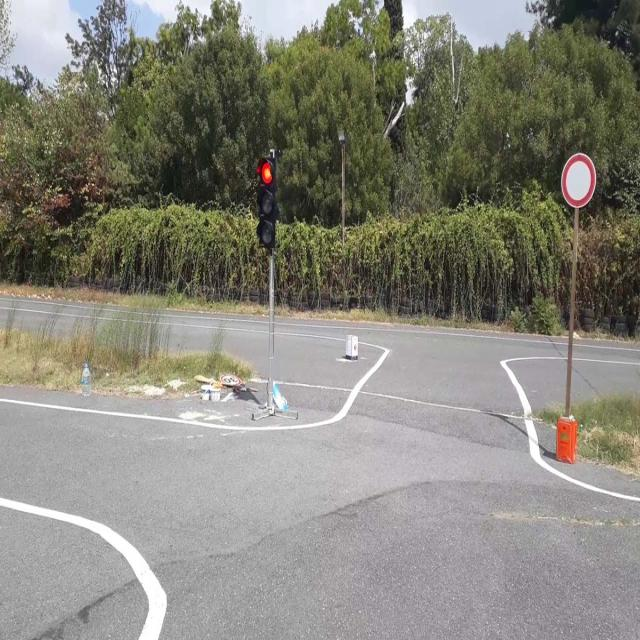kirmizi: (257, 157, 275, 247)
